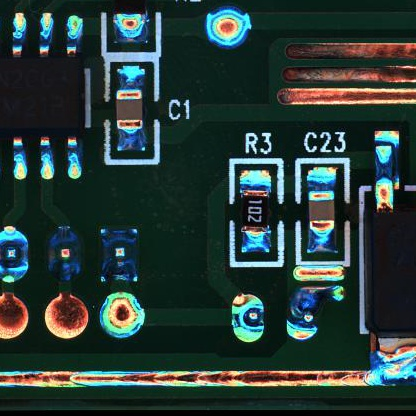spot: (99, 228, 140, 285), (204, 4, 253, 50), (286, 286, 321, 344), (49, 224, 83, 283), (231, 293, 266, 344), (1, 225, 32, 282)
